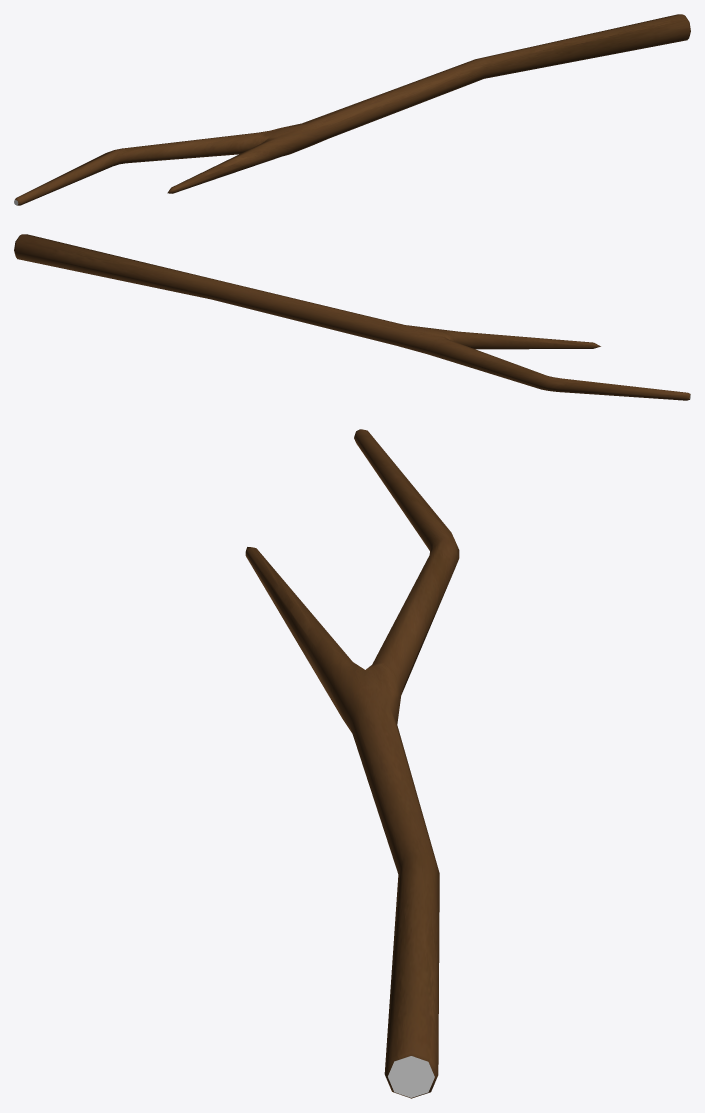
Rendered from Branch_1.glb.
The picture shows the model from 3 angles, top to bottom: view 1: azimuth 30°, elevation 25°; view 2: azimuth 150°, elevation 25°; view 3: azimuth 270°, elevation 25°; orthographic projection. The views are drawn at different scales.
Parts seen in each view (by area): view 1: Cube.080; view 2: Cube.080; view 3: Cube.080.
Part boxes in pixels (x1,y1,x2,y2): Cube.080: (14, 14, 690, 205); Cube.080: (14, 234, 690, 400); Cube.080: (245, 429, 459, 1098).
Size of the model in its own units: 1.99 by 0.0881 by 0.2795.
Materials: 2 (1 with a texture image).
